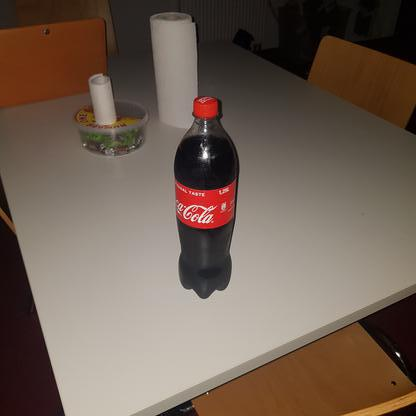coca-cola: (172, 95, 242, 301)
